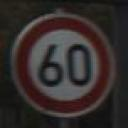speed_limit_60: (12, 11, 118, 117)
